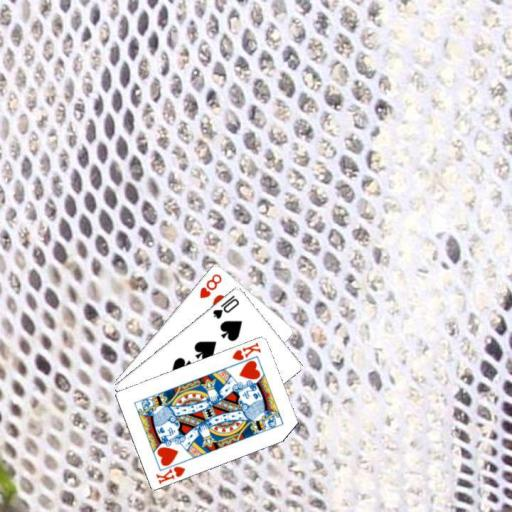10S: (210, 292, 241, 320)
8H: (197, 271, 224, 300)
KH: (153, 462, 187, 485), (229, 339, 262, 362)
